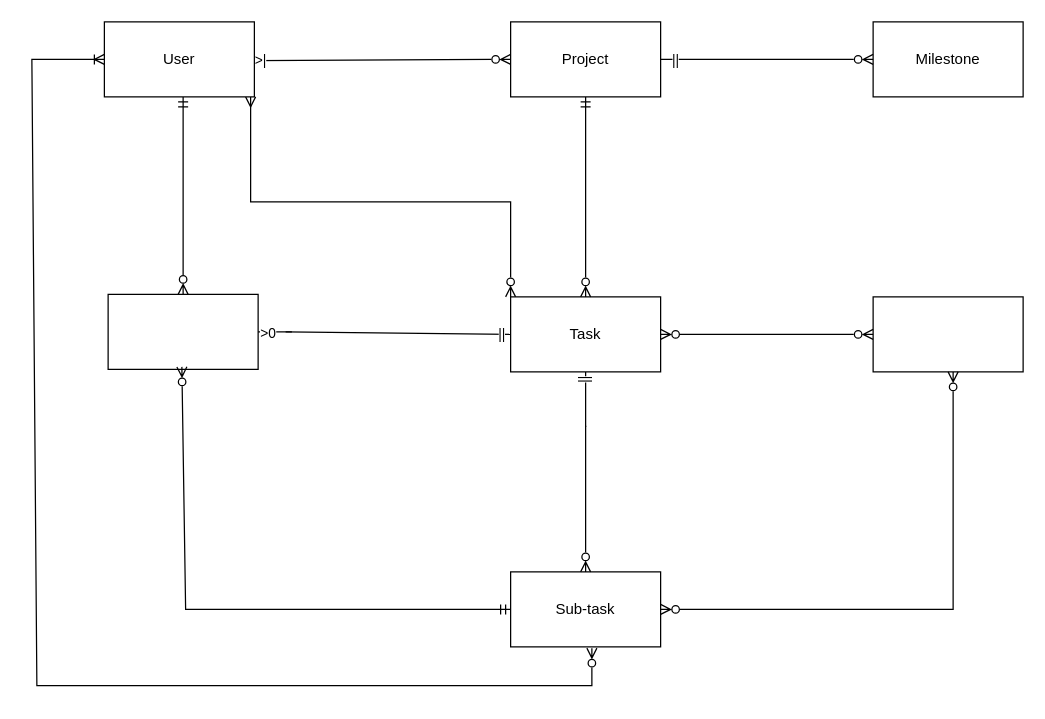
This 1045x719 diagram has some shape labels left out. The shapes that lost their labels are listed below. From the top down, each one's centre as x and y in pixels, then its label:
pixel 182 331: Comments
pixel 947 334: Resources
